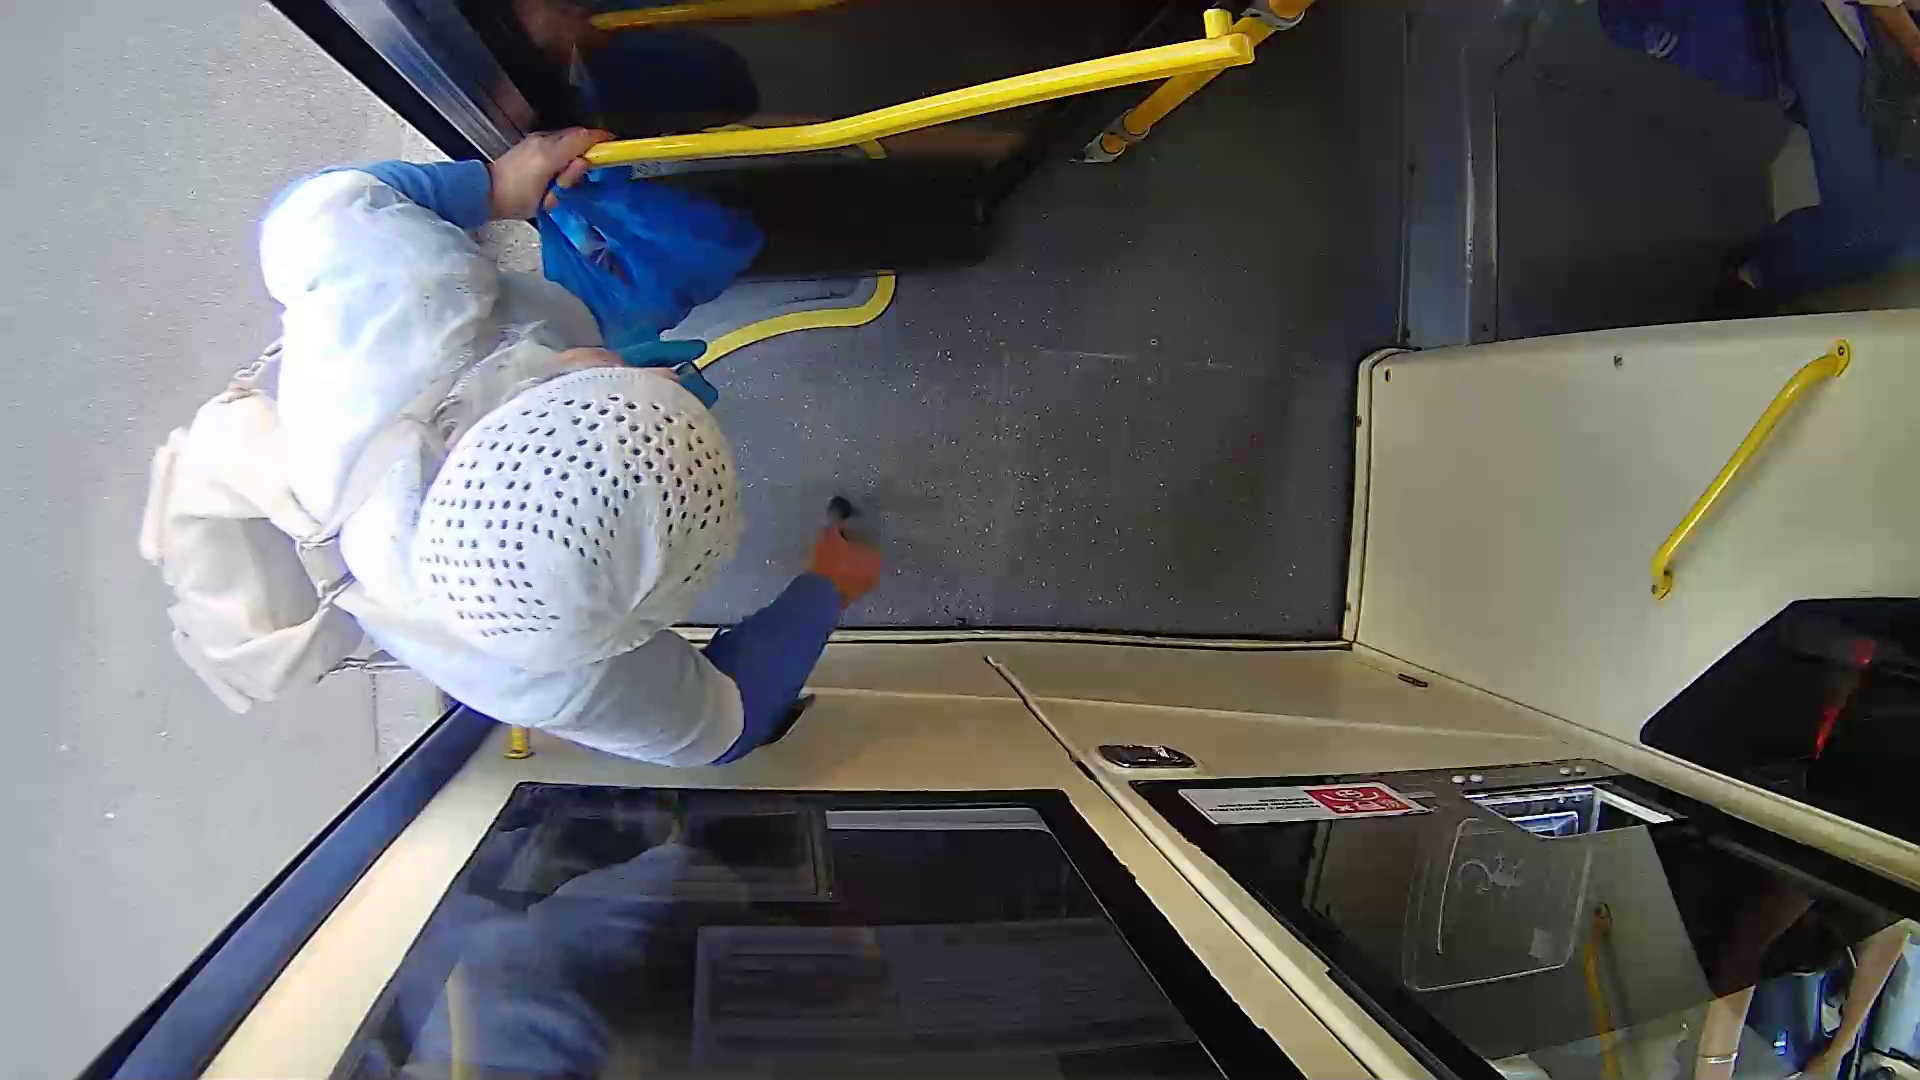person: (166, 141, 1001, 801)
